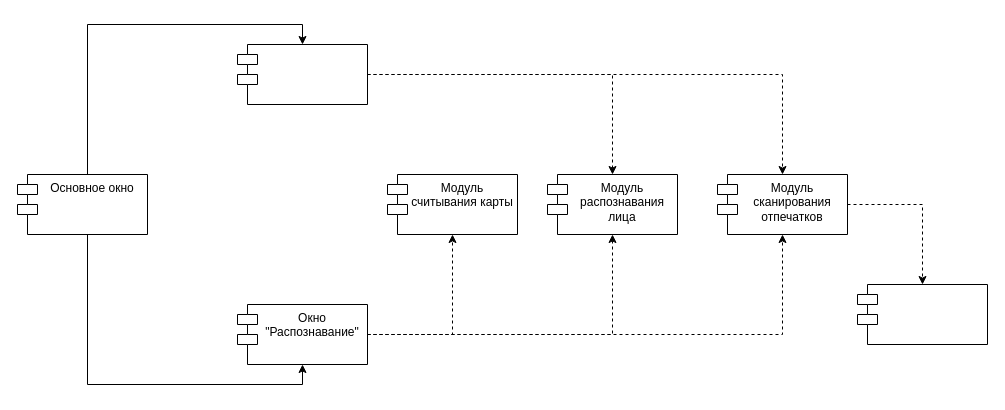
This 1005x410 diagram has some shape labels left out. Here are the shapes that lost their labels. From the top down, the box of each, then its label:
(236, 44, 368, 104): Окно "Добавление пользователя"
(856, 284, 988, 344): Модуль обучения нейронной сети
